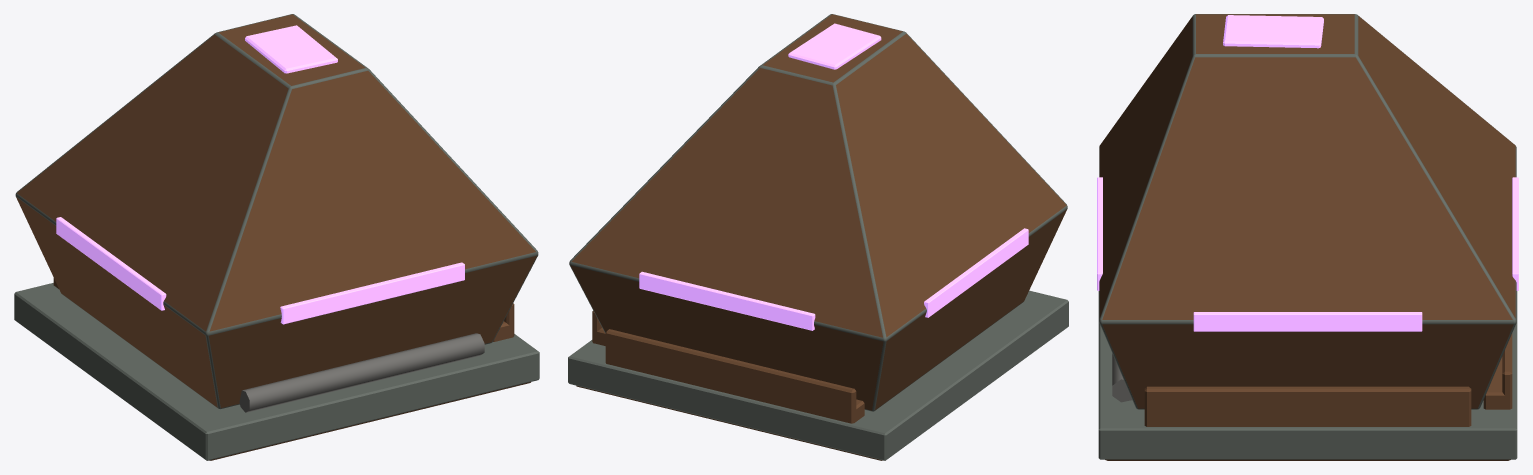
File: R4X_Stealth.fbx
3 renders of one model, left to right at view 1: azimuth 30°, elevation 25°; view 2: azimuth 150°, elevation 25°; view 3: azimuth 270°, elevation 25°, orthographic. The views are drawn at different scales.
Visible parts, largest first — view 1: R4X_Stealth_Body; view 2: R4X_Stealth_Body; view 3: R4X_Stealth_Body.
Boxes of the visible parts, left/top/right/bottom form: R4X_Stealth_Body: left=14, top=14, right=539, bottom=460; R4X_Stealth_Body: left=568, top=14, right=1068, bottom=460; R4X_Stealth_Body: left=1097, top=14, right=1518, bottom=460.
Size of the model in its own units: 0.516 by 0.466 by 0.516.
